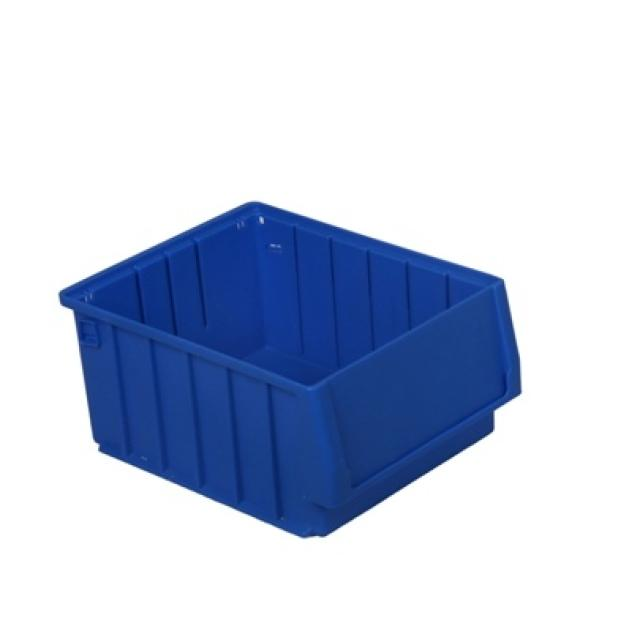basket: (13, 159, 551, 585)
